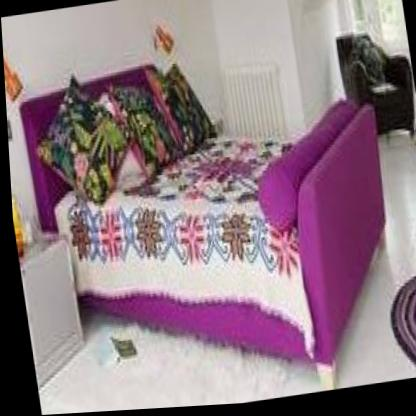Bed: (13, 35, 408, 415)
